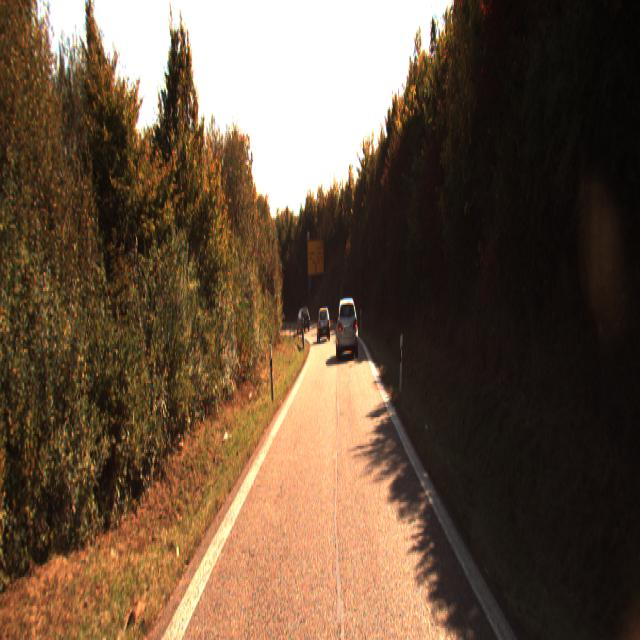Car: (336, 295, 358, 357), (317, 306, 330, 340), (296, 307, 310, 331)
